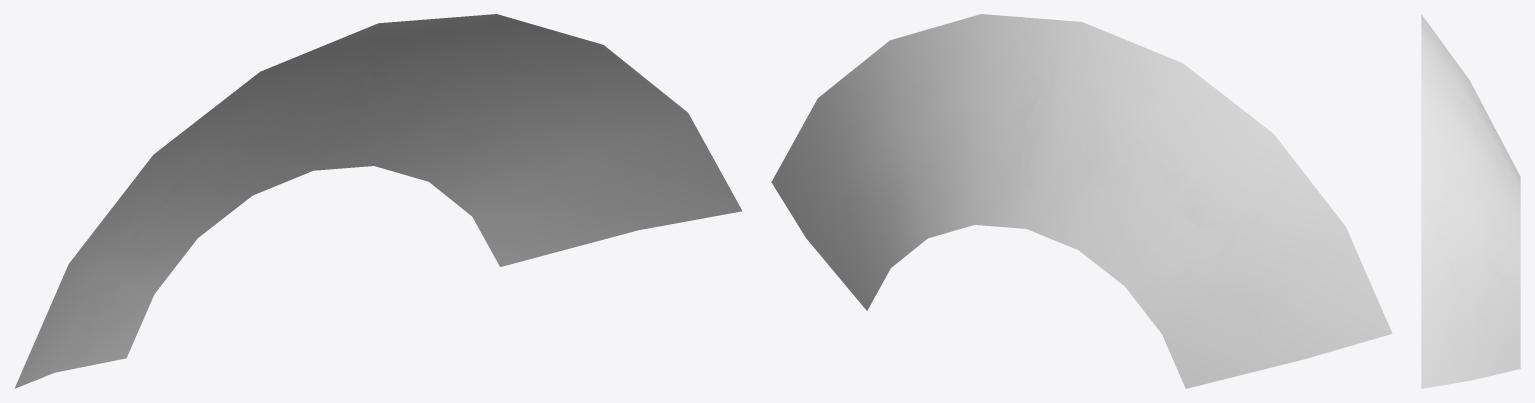
The model's file is Force_01.fbx.
3 views of the same model, side by side, from view 1: azimuth 30°, elevation 25°; view 2: azimuth 150°, elevation 25°; view 3: azimuth 270°, elevation 25° (orthographic). The views are drawn at different scales.
Visible parts, largest first — view 1: Force_01; view 2: Force_01; view 3: Force_01.
Boxes of the visible parts, x1,y1,x2,y2 form: Force_01: (14,14,742,388); Force_01: (771,14,1392,388); Force_01: (1421,14,1520,388).
Size of the model in its own units: 7.75 by 3.43 by 1.2.
